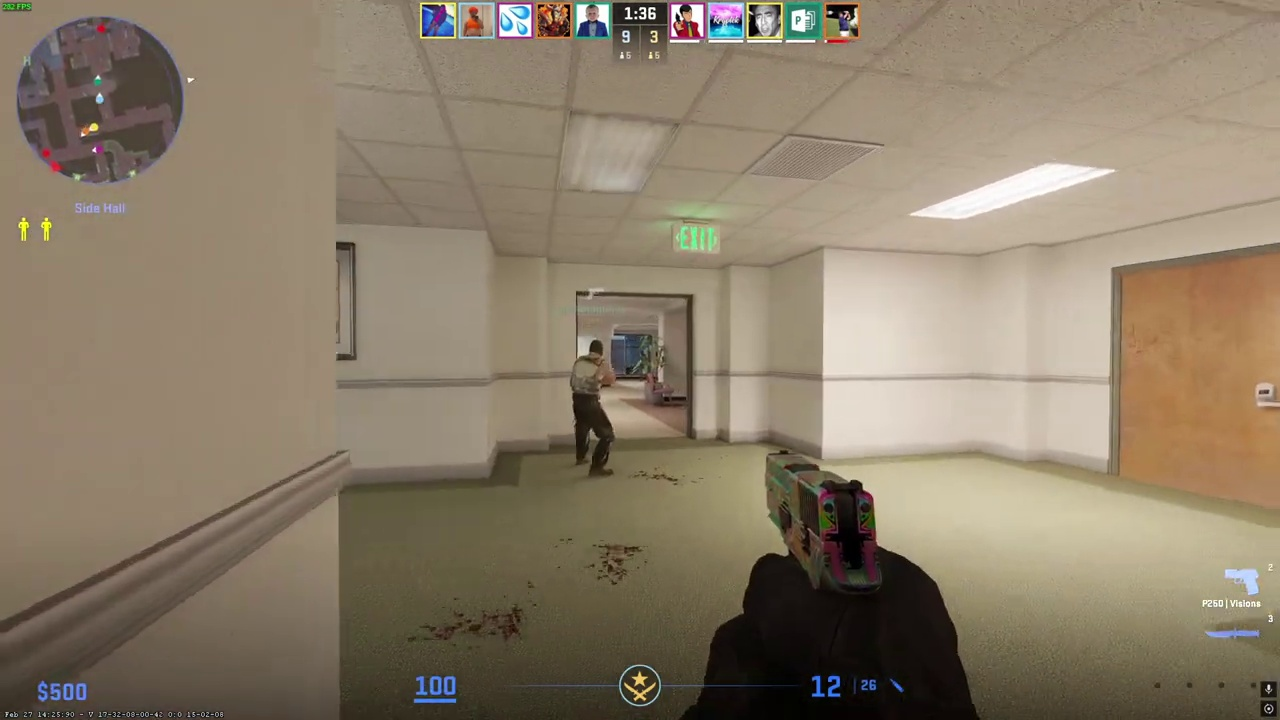Terrorist: (570, 340, 615, 476)
